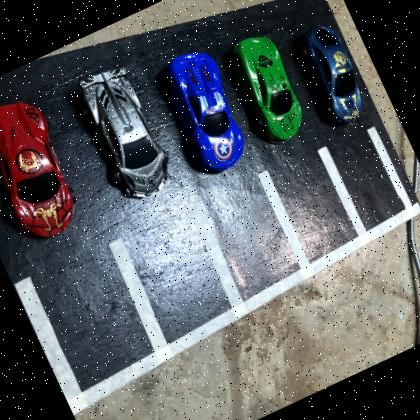Car: (68, 58, 182, 210), (0, 88, 93, 248), (158, 42, 261, 179), (226, 26, 316, 148), (294, 15, 378, 130)
